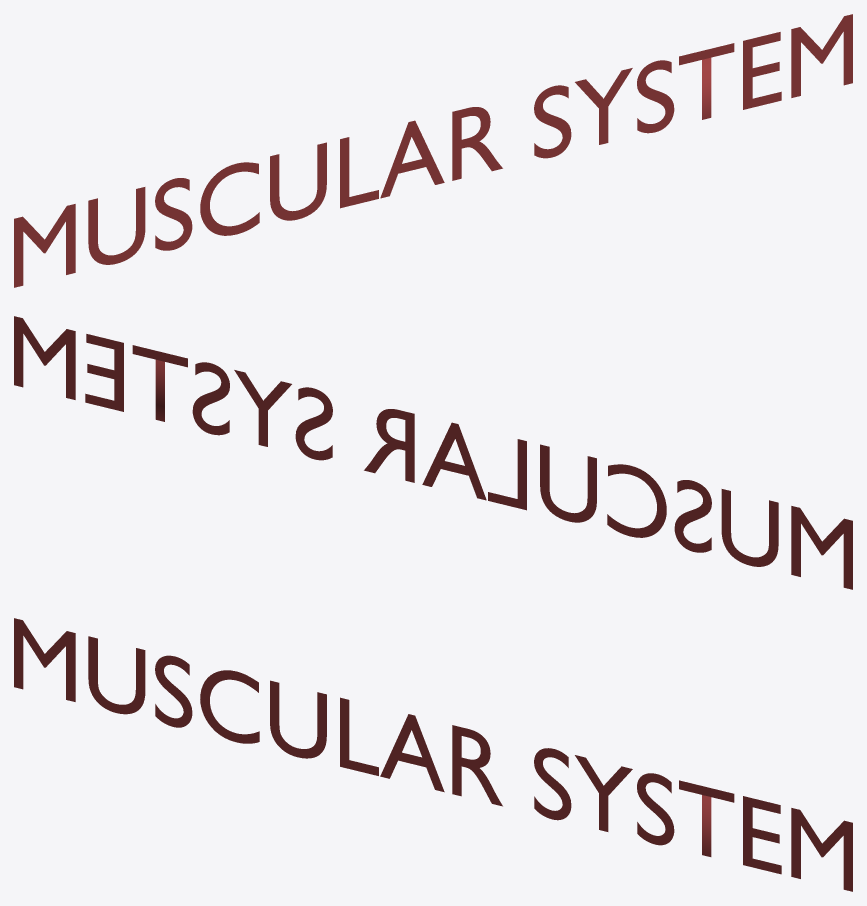
File: muscular-system-g.glb
3 renders of one model, top to bottom at view 1: azimuth 30°, elevation 25°; view 2: azimuth 150°, elevation 25°; view 3: azimuth 330°, elevation 25°, orthographic.
Visible parts, largest first — view 1: Muscular system.g; view 2: Muscular system.g; view 3: Muscular system.g.
Part boxes in pixels (box(x1,y1,x2,y2)): Muscular system.g: box(14, 14, 852, 287); Muscular system.g: box(14, 316, 852, 589); Muscular system.g: box(14, 618, 852, 891).
Size of the model in its own units: 0.4331 by 0.035 by 0.
